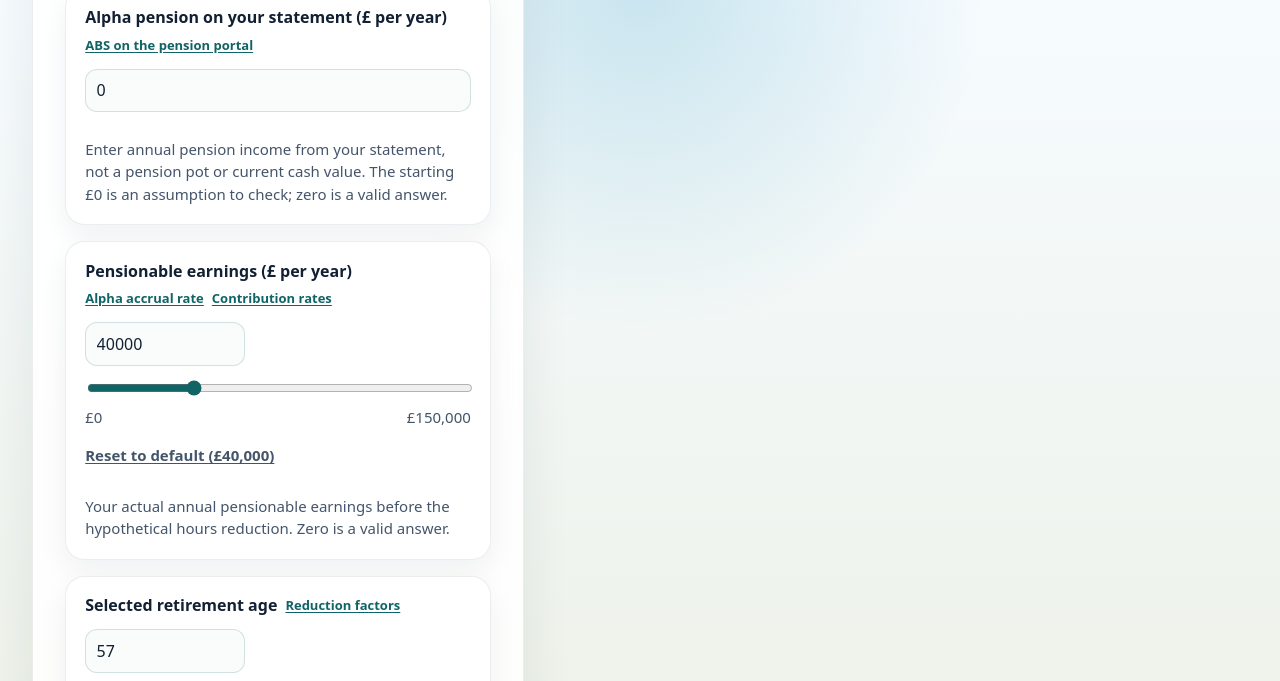
Test: Quick modeller journey › uses quick defaults for field reset controls
(page scrolled)
Step 1. Replace the text in the number field named "Pensionable earnings (£ per year) exact value" with "55000" → (165, 344), box top-left (85, 322), bottom-right (245, 366)
(page scrolled)
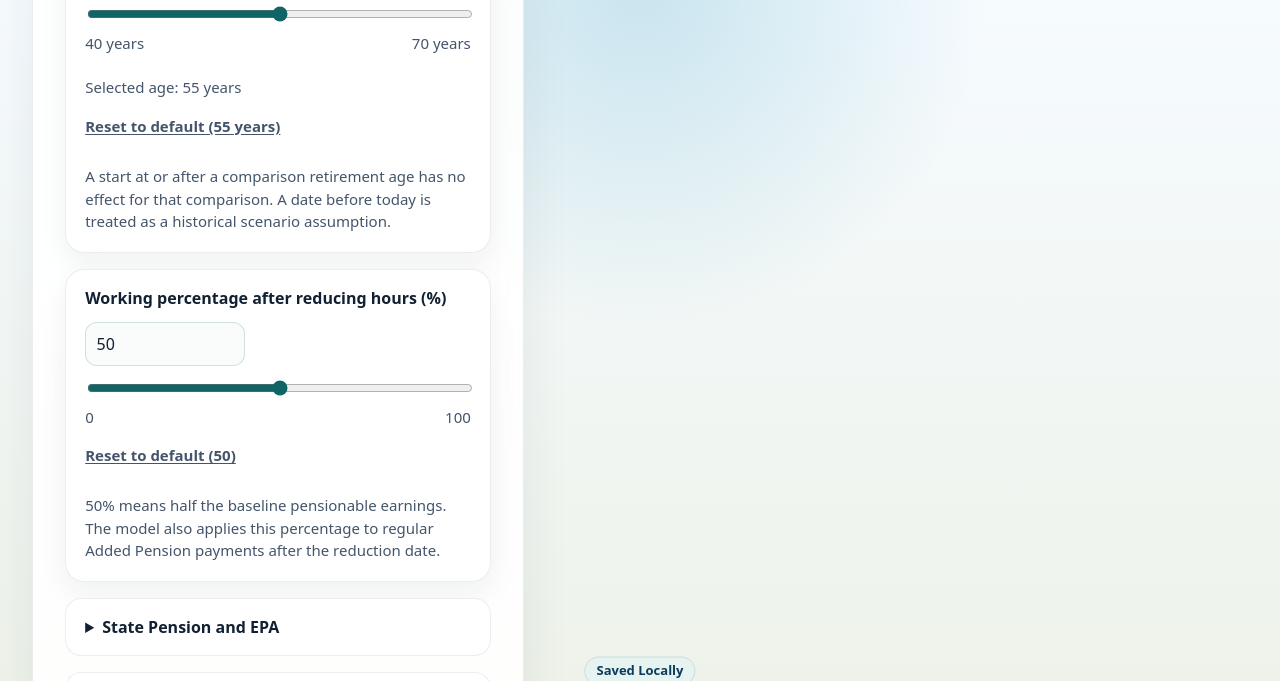
Step 2. Replace the text in the number field named "Working percentage after reducing hours (%) exact value" with "80" → (165, 344), box top-left (85, 322), bottom-right (245, 366)
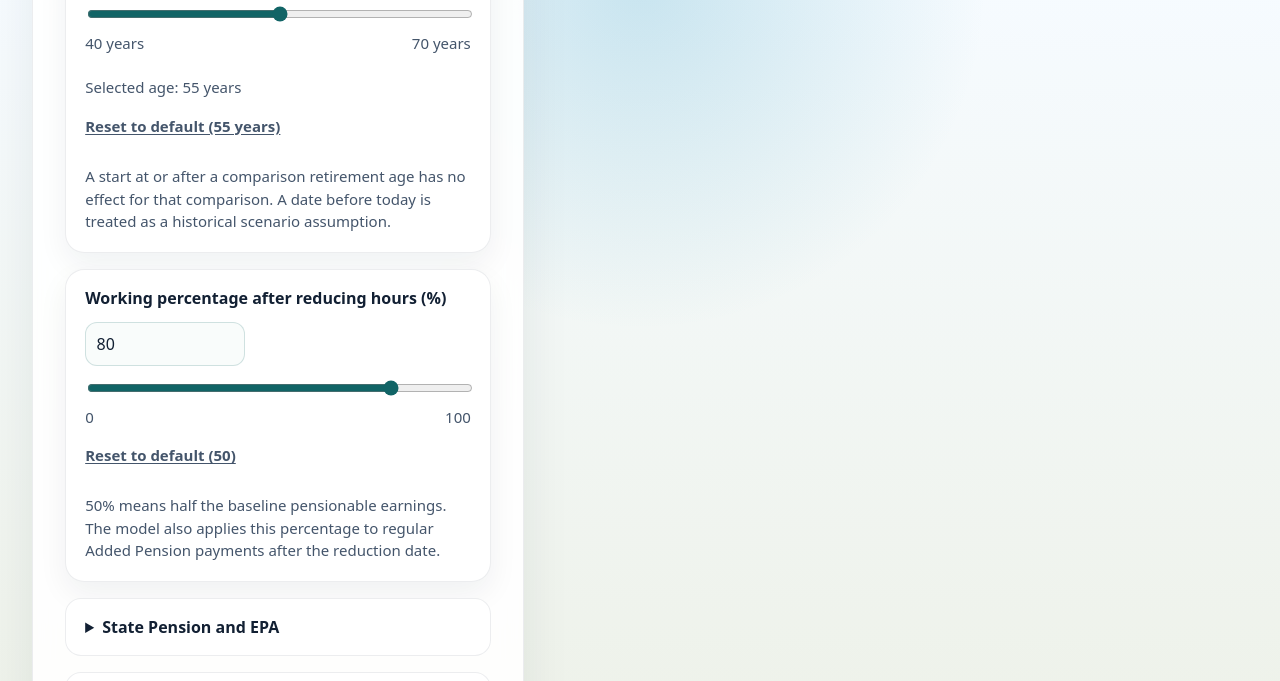
Step 3. Press Enter in the number field named "Working percentage after reducing hours (%) exact value", box top-left (85, 322), bottom-right (245, 366)
(page scrolled)
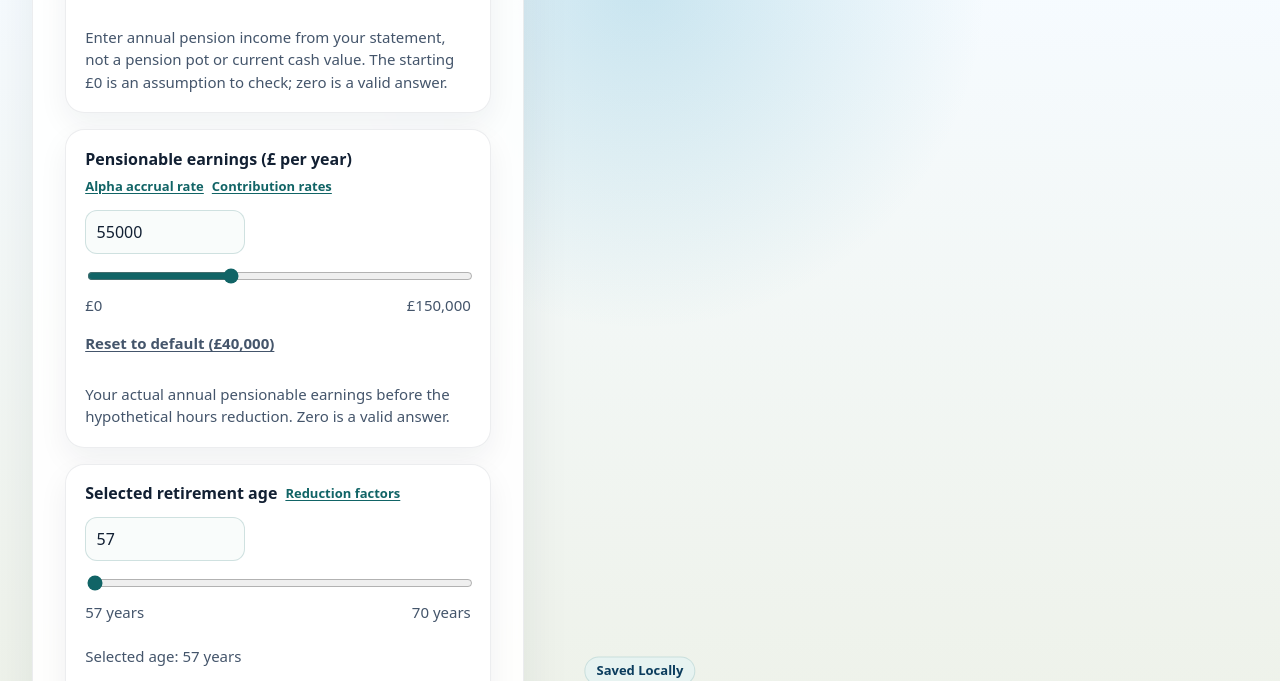
Step 4. Click the button with aria-label "Reset Pensionable earnings (£ per year) to default value" → (180, 343), box top-left (85, 330), bottom-right (274, 357)
(page scrolled)
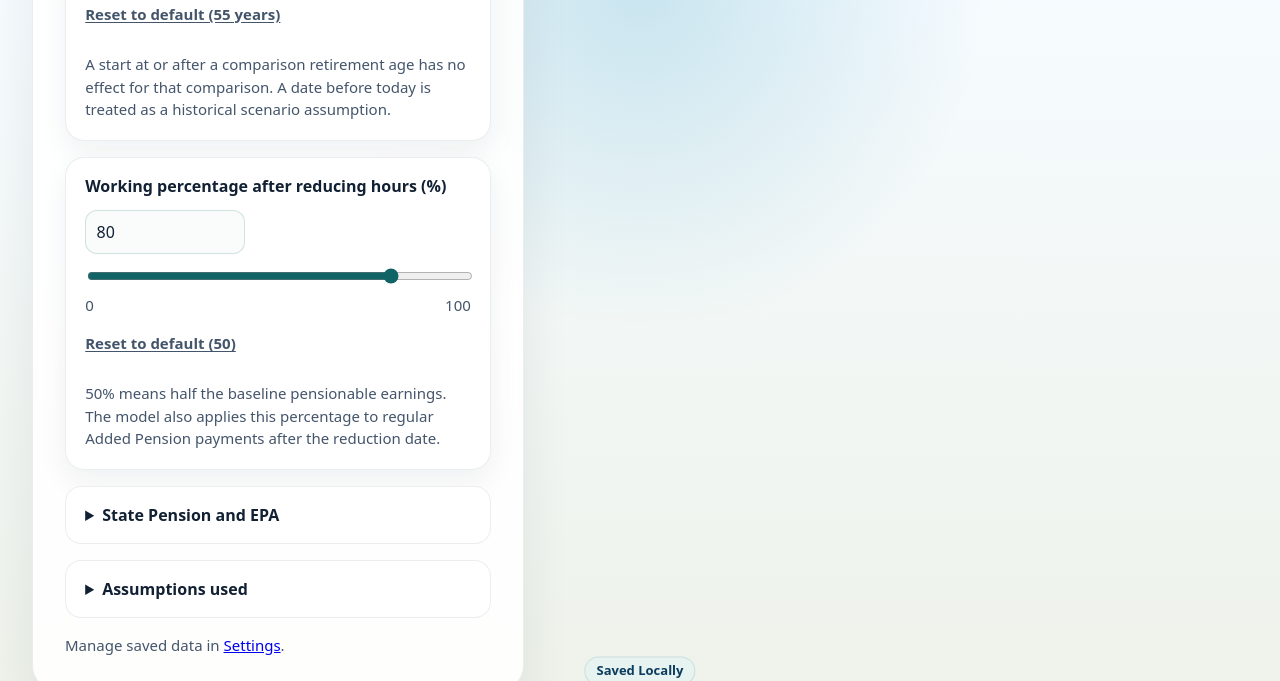
Step 5. Click the button named "Reset Working percentage after reducing hours (%) to default value" → (160, 343), box top-left (85, 330), bottom-right (236, 357)
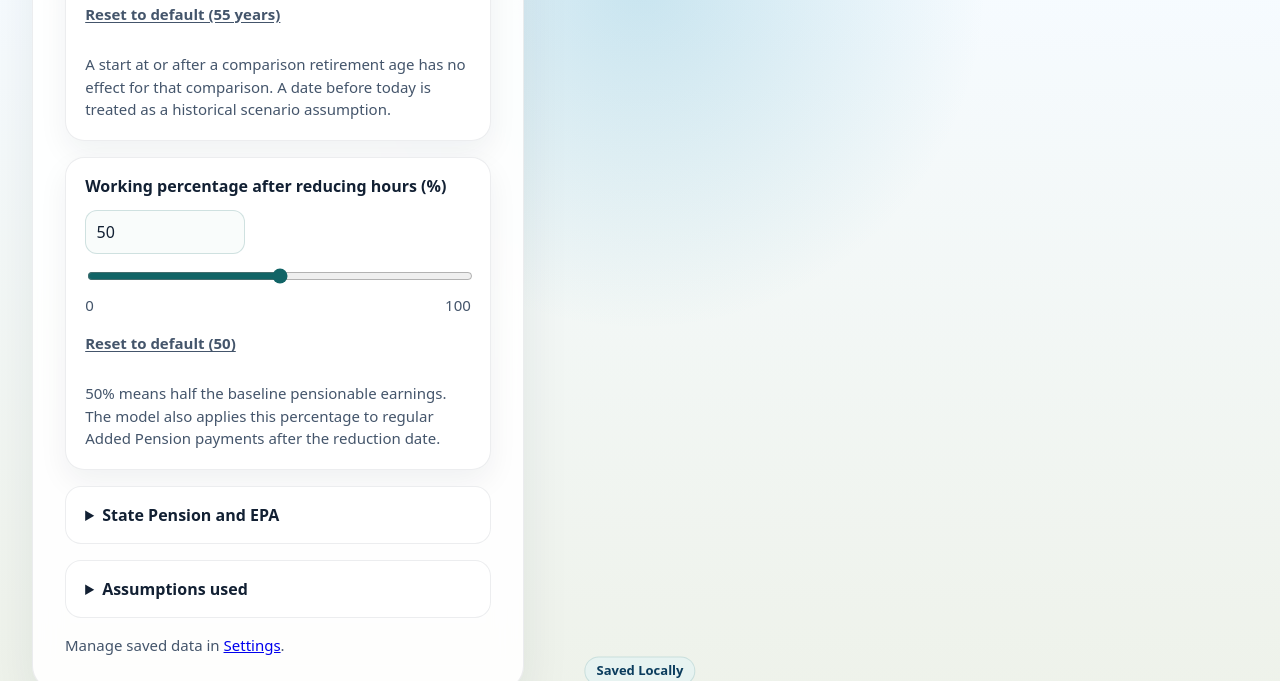
Now the number field named "Working percentage after reducing hours (%) exact value" holds "50", box top-left (85, 210), bottom-right (245, 254)
